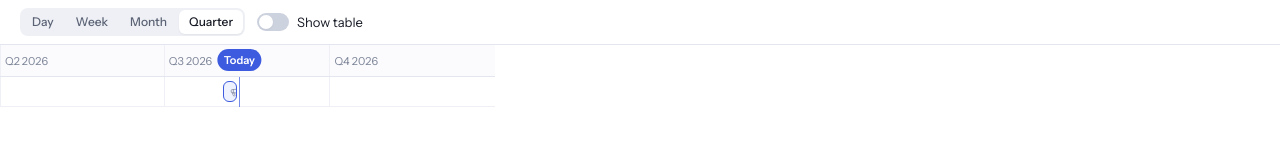
TimelineView zoom › redraws the axis at the new scale
Expected: the column heading with test id "axis-tick" reads "Q2 2026", [5, 54, 48, 68]
Click the tab with test id "zoom-day".
click(43, 22)  # box [22, 10, 64, 34]
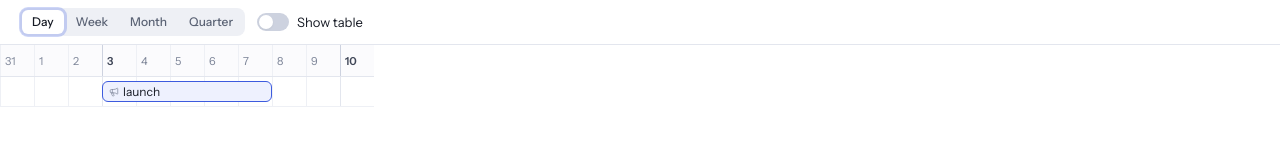
Now the column heading with test id "axis-tick" reads "31", box [5, 54, 16, 68]
